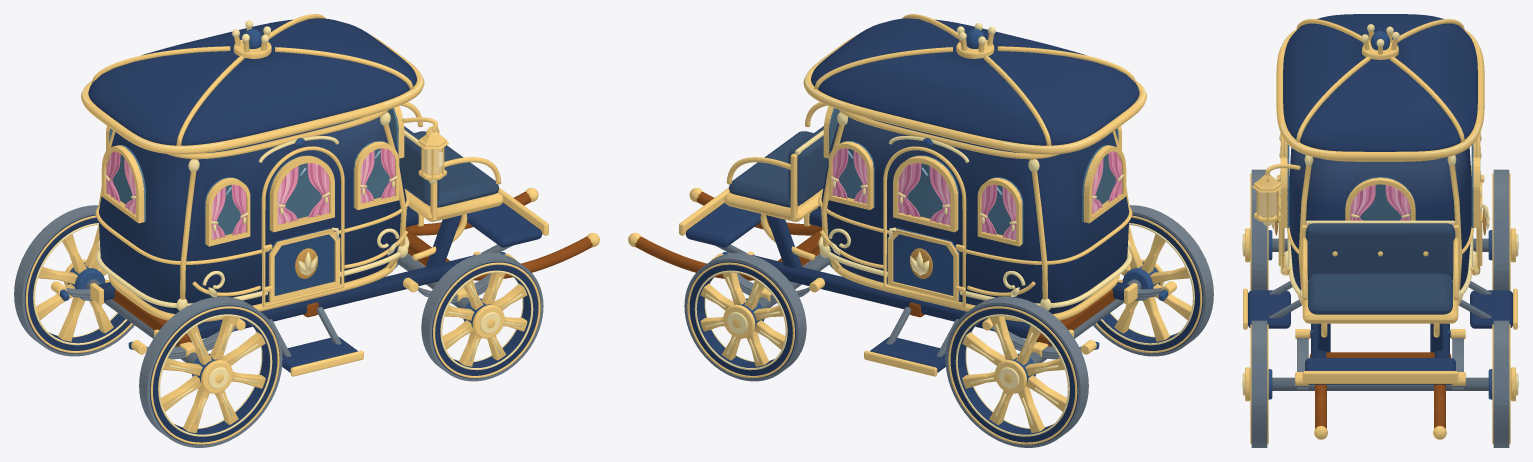
Rendered from Noble_Carriage.glb.
3 views of the same model, side by side, from view 1: azimuth 30°, elevation 25°; view 2: azimuth 150°, elevation 25°; view 3: azimuth 270°, elevation 25° (orthographic). The views are drawn at different scales.
Visible parts, largest first — view 1: Anime_Noble_Carriage; view 2: Anime_Noble_Carriage; view 3: Anime_Noble_Carriage.
Boxes of the visible parts, bbox=[...] form: Anime_Noble_Carriage: bbox=[14, 14, 599, 447]; Anime_Noble_Carriage: bbox=[628, 14, 1213, 447]; Anime_Noble_Carriage: bbox=[1242, 14, 1518, 447].
Bounding box in the file's own units: 5.04 × 3.4 × 2.56.
Materials: 15 (1 with a texture image).
